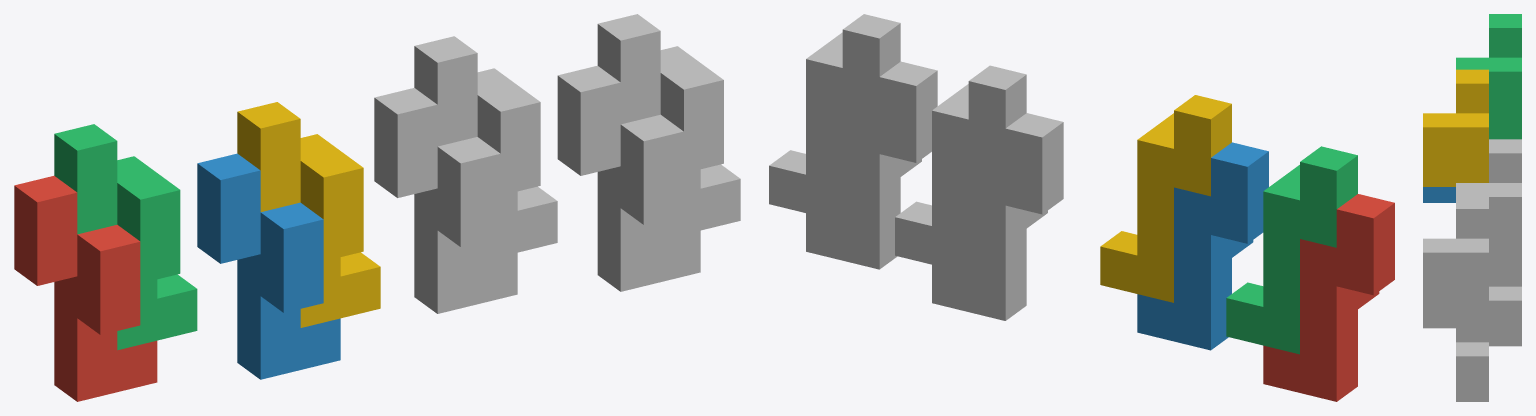
The model's file is tiling.obj.
3 renders of one model, left to right at view 1: azimuth 30°, elevation 25°; view 2: azimuth 150°, elevation 25°; view 3: azimuth 270°, elevation 25°, orthographic. The views are drawn at different scales.
Visible parts, largest first — view 1: copy_1_domain_2, copy_1_domain_5, copy_1_domain_6, copy_1_domain_1, copy_1_domain_4, copy_1_domain_7, copy_1_domain_3, copy_1_domain_8; view 2: copy_1_domain_5, copy_1_domain_1, copy_1_domain_6, copy_1_domain_2, copy_1_domain_7, copy_1_domain_8, copy_1_domain_4, copy_1_domain_3; view 3: copy_1_domain_8, copy_1_domain_7, copy_1_domain_4, copy_1_domain_3, copy_1_domain_6, copy_1_domain_5, copy_1_domain_2.
Boxes of the visible parts, x1,y1,x2,y2 form: copy_1_domain_2: [197, 153, 340, 379]; copy_1_domain_5: [374, 88, 517, 313]; copy_1_domain_6: [557, 65, 700, 291]; copy_1_domain_1: [14, 176, 157, 401]; copy_1_domain_4: [237, 102, 380, 327]; copy_1_domain_7: [414, 36, 557, 262]; copy_1_domain_3: [54, 124, 197, 350]; copy_1_domain_8: [597, 14, 740, 239]; copy_1_domain_5: [932, 113, 1063, 320]; copy_1_domain_1: [1263, 194, 1394, 401]; copy_1_domain_6: [806, 61, 937, 269]; copy_1_domain_2: [1137, 142, 1268, 350]; copy_1_domain_7: [895, 65, 1026, 273]; copy_1_domain_8: [769, 14, 900, 221]; copy_1_domain_4: [1100, 95, 1231, 302]; copy_1_domain_3: [1226, 146, 1357, 354]; copy_1_domain_8: [1423, 195, 1488, 385]; copy_1_domain_7: [1456, 139, 1521, 330]; copy_1_domain_4: [1423, 69, 1488, 186]; copy_1_domain_3: [1456, 14, 1521, 139]; copy_1_domain_6: [1423, 312, 1488, 401]; copy_1_domain_5: [1489, 330, 1521, 346]; copy_1_domain_2: [1423, 187, 1455, 202].
Bounding box in the file's own units: 17 × 6 × 3.
